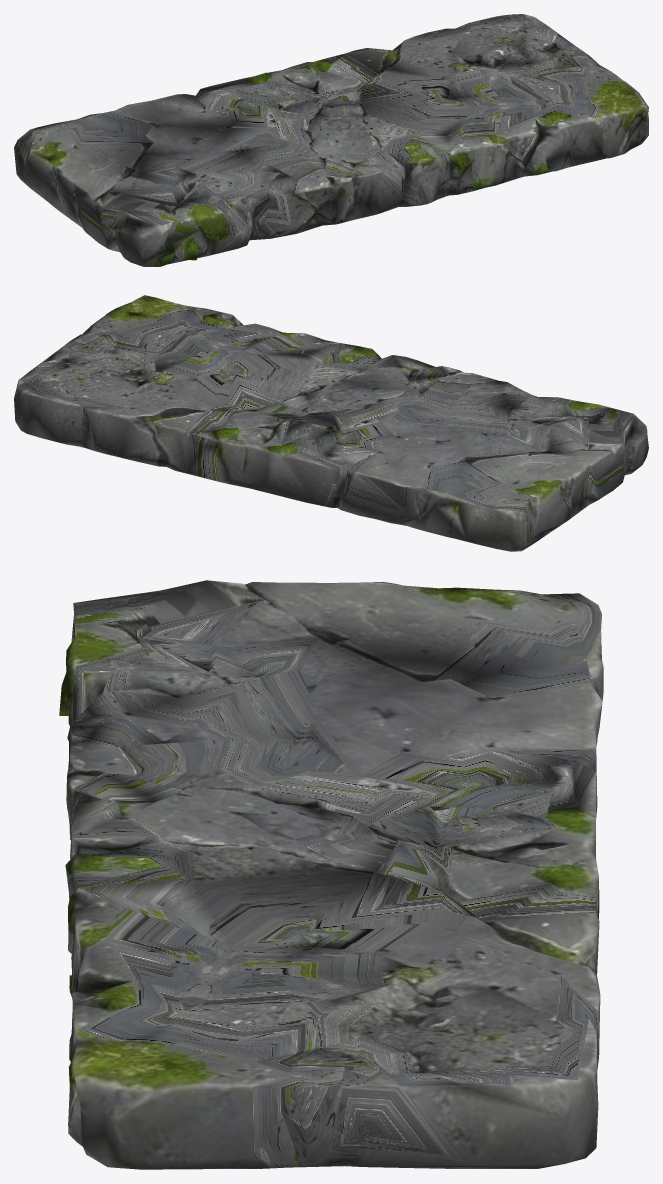
Rendered from step_lo.glb.
The picture shows the model from 3 angles, top to bottom: view 1: azimuth 30°, elevation 25°; view 2: azimuth 150°, elevation 25°; view 3: azimuth 270°, elevation 25°; orthographic projection. The views are drawn at different scales.
Bounding box in the file's own units: 1.9 × 0.1647 × 0.8512.
1 material, 1 textured.
